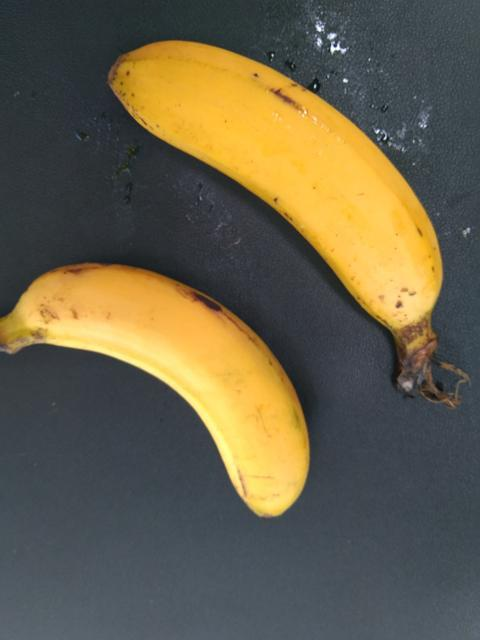freshripe: (97, 26, 469, 310), (29, 247, 332, 529)
